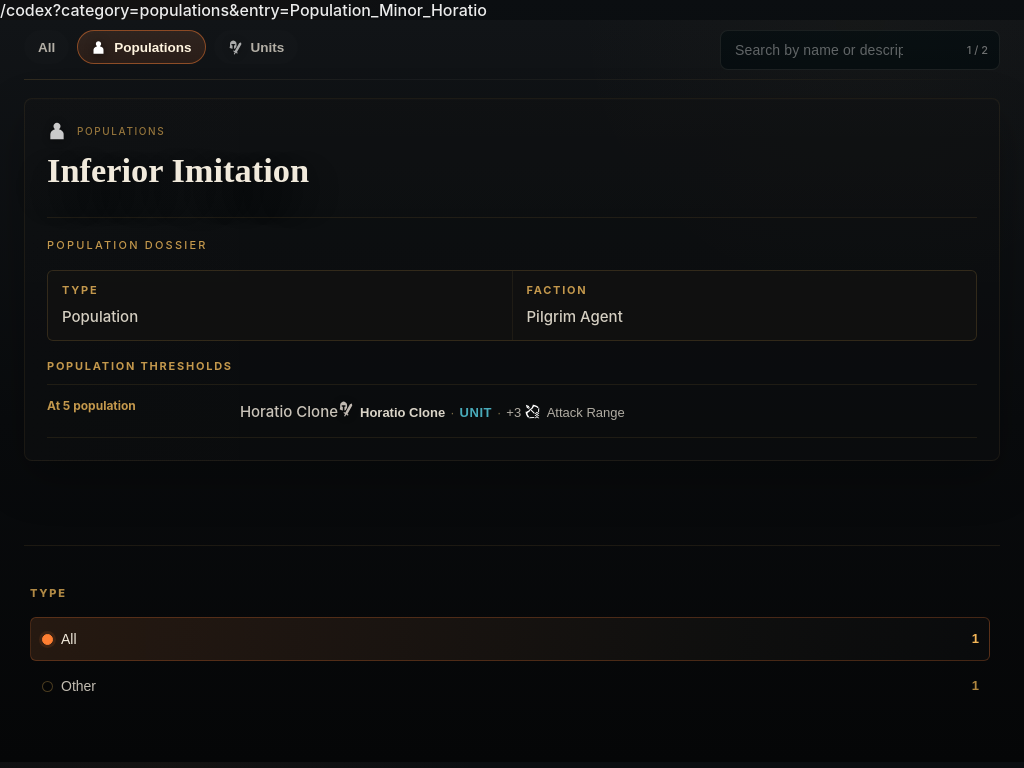
CodexPage equipment and population metadata rendering › renders exact Population threshold Unit targets as restrained one-line summaries
Expected: the heading "Inferior Imitation" is shown, [47,151,309,189]
Click the button with aria-label "Horatio Clone Unit +3 Attack Range": x=481, y=412 [338,399,625,425]
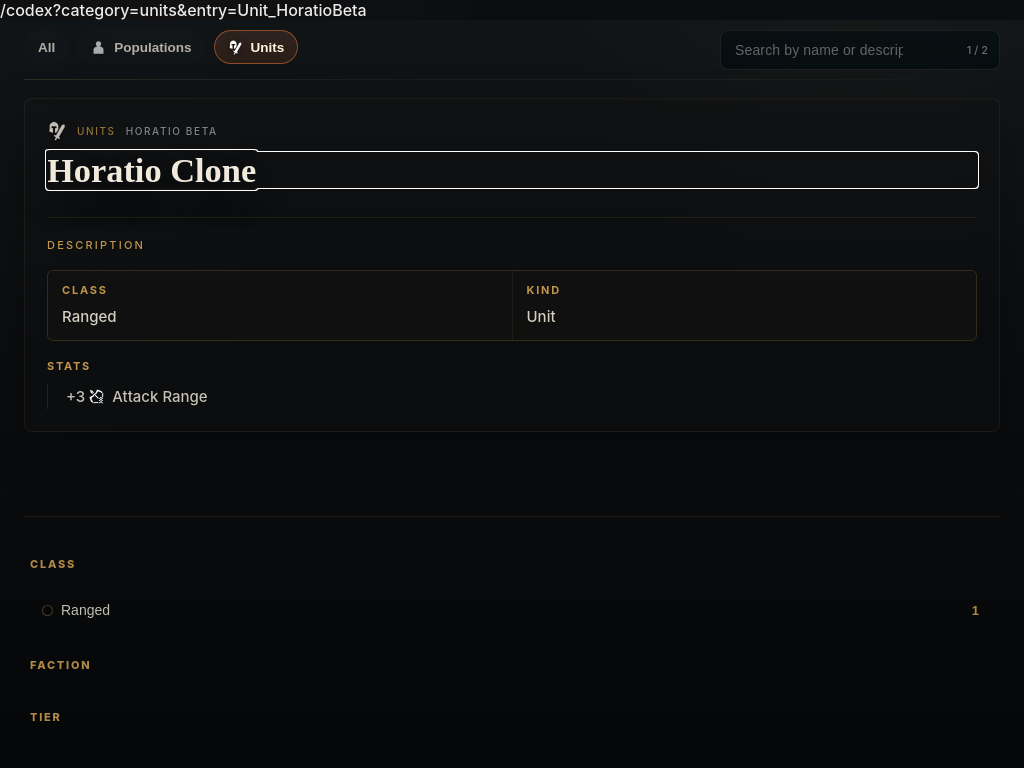
Now the heading "Horatio Clone" is shown, box [47,151,256,189]
Now the text with test id "location-probe" reads "/codex?category=units&entry=Unit_HoratioBeta", box [0,0,367,20]
